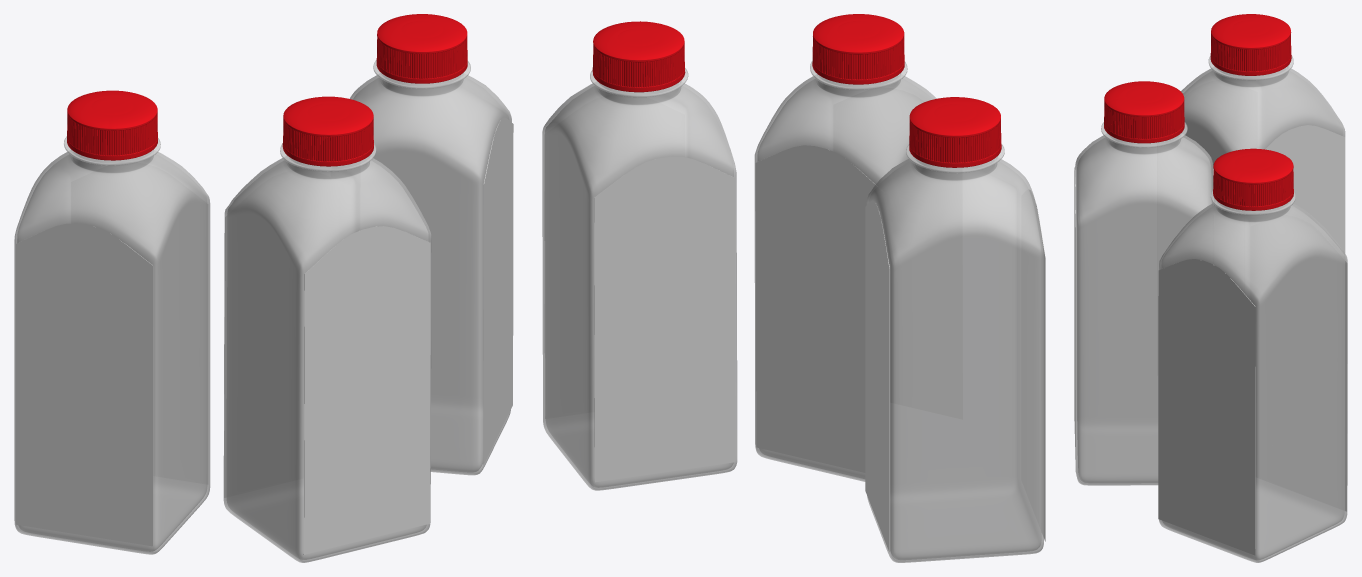
Rendered from Soft Drinks A-5.glb.
3 views of the same model, side by side, from view 1: azimuth 30°, elevation 25°; view 2: azimuth 150°, elevation 25°; view 3: azimuth 270°, elevation 25° (orthographic). The views are drawn at different scales.
Parts seen in each view (by area): view 1: Plane, Bottle_BottlePlastic_0.003, Plane.004, Bottle_BottlePlastic_0.001, Bottle_BottlePlastic_0.002, Plane.002, ManiPiece_Bottle2CapArnold_0.002, ManiPiece_Bottle2CapArnold_0, ManiPiece_Bottle2CapArnold_0.001, pCube117_Bottle2CapArnold_0.002, pCube117_Bottle2CapArnold_0.001, pCube117_Bottle2CapArnold_0; view 2: Bottle_BottlePlastic_0.001, Plane.002, Plane.004, Bottle_BottlePlastic_0.002, Bottle_BottlePlastic_0.003, Plane, ManiPiece_Bottle2CapArnold_0.001, ManiPiece_Bottle2CapArnold_0, ManiPiece_Bottle2CapArnold_0.002, pCube117_Bottle2CapArnold_0.002, pCube117_Bottle2CapArnold_0, pCube117_Bottle2CapArnold_0.001; view 3: Bottle_BottlePlastic_0.002, Bottle_BottlePlastic_0.003, Plane.002, Bottle_BottlePlastic_0.001, Plane, ManiPiece_Bottle2CapArnold_0.001, ManiPiece_Bottle2CapArnold_0.002, ManiPiece_Bottle2CapArnold_0, pCube117_Bottle2CapArnold_0.001, pCube117_Bottle2CapArnold_0, pCube117_Bottle2CapArnold_0.002, Plane.004.
Part boxes in pixels (box(x1,y1,x2,y2)): Plane: box(16, 223, 153, 546); Bottle_BottlePlastic_0.003: box(223, 143, 431, 562); Plane.004: box(225, 216, 430, 554); Bottle_BottlePlastic_0.001: box(14, 136, 210, 554); Bottle_BottlePlastic_0.002: box(349, 60, 511, 475); Plane.002: box(483, 117, 513, 464); ManiPiece_Bottle2CapArnold_0.002: box(282, 96, 373, 166); ManiPiece_Bottle2CapArnold_0: box(67, 90, 157, 160); ManiPiece_Bottle2CapArnold_0.001: box(376, 14, 467, 83); pCube117_Bottle2CapArnold_0.002: box(283, 119, 373, 161); pCube117_Bottle2CapArnold_0.001: box(376, 37, 467, 78); pCube117_Bottle2CapArnold_0: box(67, 113, 157, 155); Bottle_BottlePlastic_0.001: box(866, 143, 1043, 562); Plane.002: box(545, 156, 735, 482); Plane.004: box(755, 145, 876, 472); Bottle_BottlePlastic_0.002: box(542, 68, 737, 490); Bottle_BottlePlastic_0.003: box(754, 61, 936, 481); Plane: box(865, 190, 1045, 552); ManiPiece_Bottle2CapArnold_0.001: box(592, 21, 685, 92); ManiPiece_Bottle2CapArnold_0: box(909, 97, 1001, 167); ManiPiece_Bottle2CapArnold_0.002: box(812, 14, 904, 84); pCube117_Bottle2CapArnold_0.002: box(812, 37, 904, 79); pCube117_Bottle2CapArnold_0: box(909, 120, 1001, 162); pCube117_Bottle2CapArnold_0.001: box(593, 44, 684, 87); Bottle_BottlePlastic_0.002: box(1158, 190, 1347, 562); Bottle_BottlePlastic_0.003: box(1075, 122, 1213, 485); Plane.002: box(1158, 259, 1346, 555); Bottle_BottlePlastic_0.001: box(1181, 55, 1345, 201); Plane: box(1265, 125, 1345, 254); ManiPiece_Bottle2CapArnold_0.001: box(1213, 148, 1293, 210); ManiPiece_Bottle2CapArnold_0.002: box(1104, 81, 1184, 143); ManiPiece_Bottle2CapArnold_0: box(1210, 14, 1291, 75); pCube117_Bottle2CapArnold_0.001: box(1213, 170, 1293, 206); pCube117_Bottle2CapArnold_0: box(1210, 34, 1291, 71); pCube117_Bottle2CapArnold_0.002: box(1104, 101, 1184, 139); Plane.004: box(1074, 167, 1213, 475).
Size of the model in its own units: 6.51 by 5.17 by 3.5.
